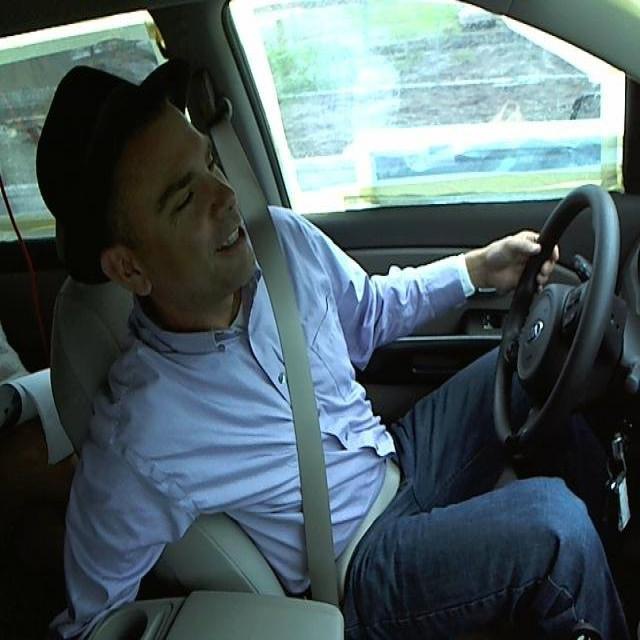seatbelt: (248, 252, 389, 575)
